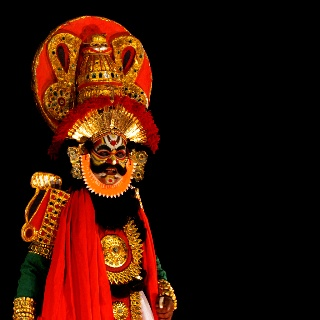without_mask: (89, 134, 126, 185)
